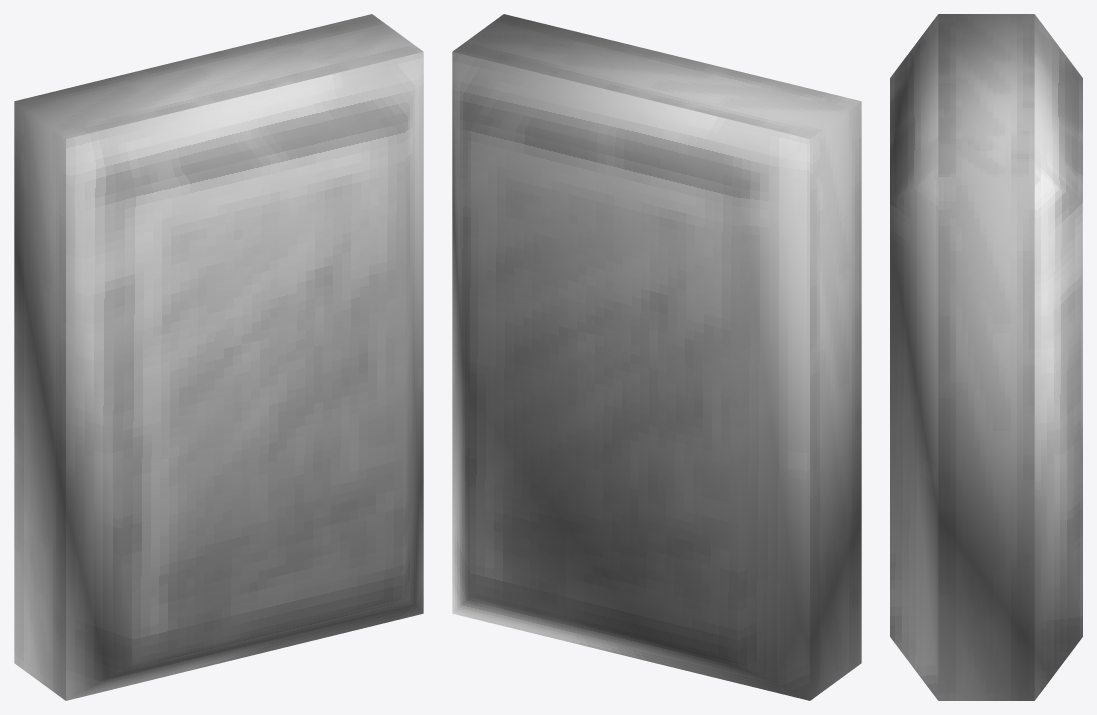
File: sapphire.fbx
The picture shows the model from 3 angles, left to right: view 1: azimuth 30°, elevation 25°; view 2: azimuth 150°, elevation 25°; view 3: azimuth 270°, elevation 25°; orthographic projection. The views are drawn at different scales.
Visible parts, largest first — view 1: COLOR1; view 2: COLOR1; view 3: COLOR1.
Part boxes in pixels (left/top/right/bottom): COLOR1: left=14, top=14, right=423, bottom=700; COLOR1: left=452, top=14, right=861, bottom=700; COLOR1: left=890, top=14, right=1082, bottom=700.
Bounding box in the file's own units: 100 × 150 × 50.
Materials: 1 (1 with a texture image).
